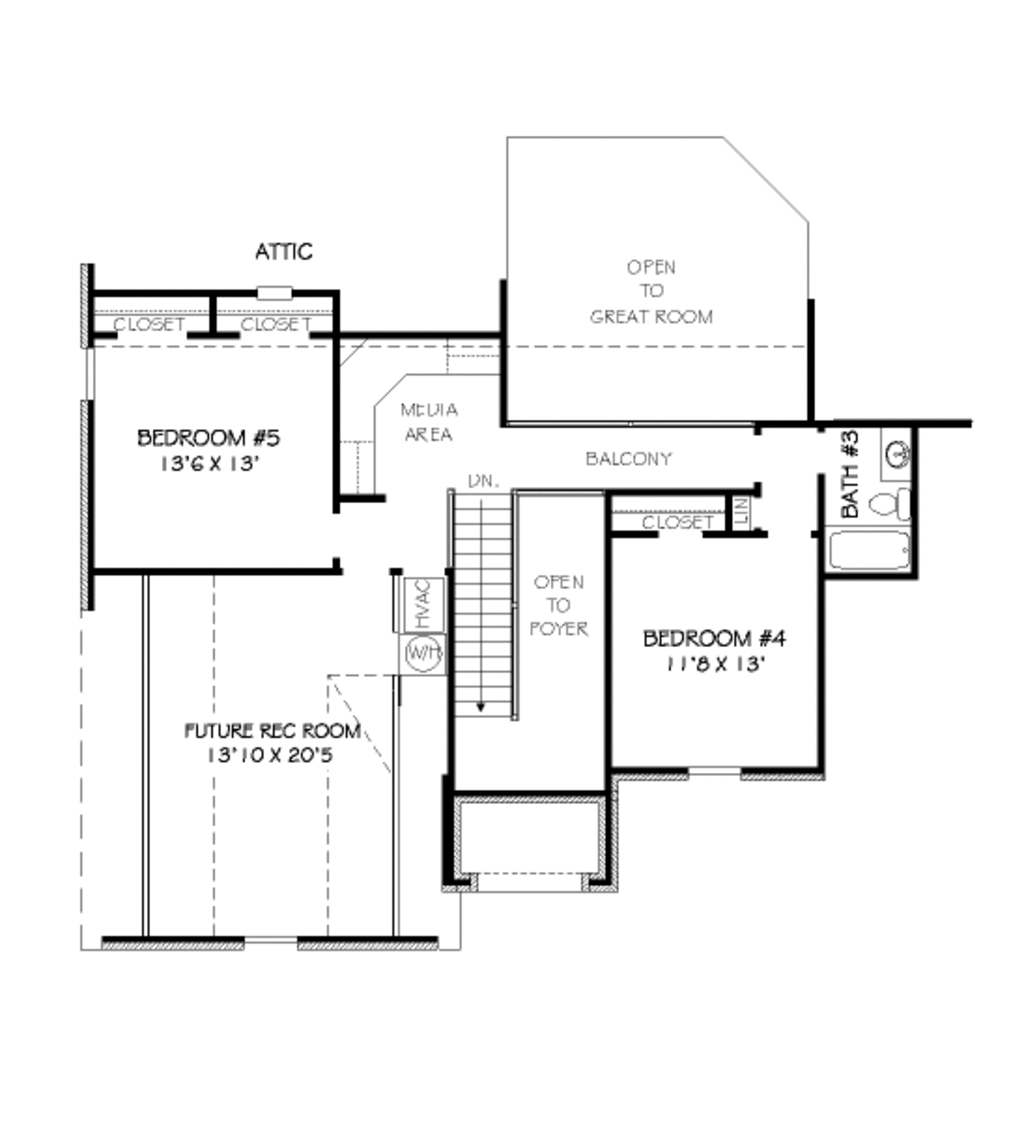large_sink: (865, 480, 924, 523)
small_sink: (873, 423, 919, 474)
stairs: (436, 470, 536, 733)
tub: (821, 518, 914, 577)
window: (224, 919, 321, 962), (253, 280, 305, 326), (72, 343, 107, 401), (672, 757, 741, 785)
